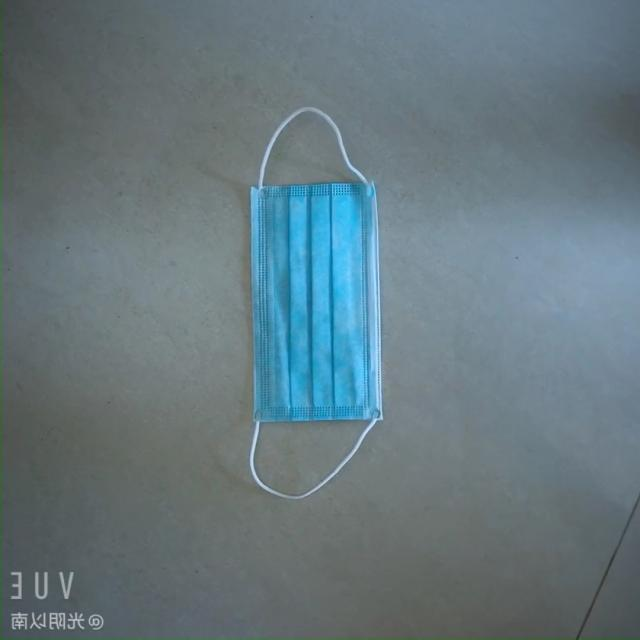face mask: (242, 174, 406, 413)
